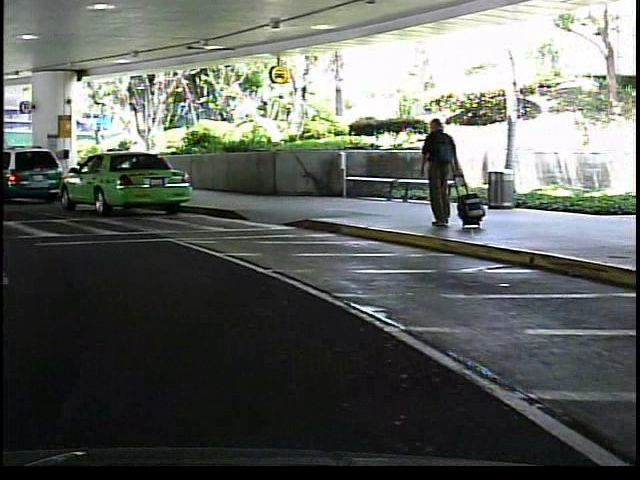person: (412, 113, 464, 238)
